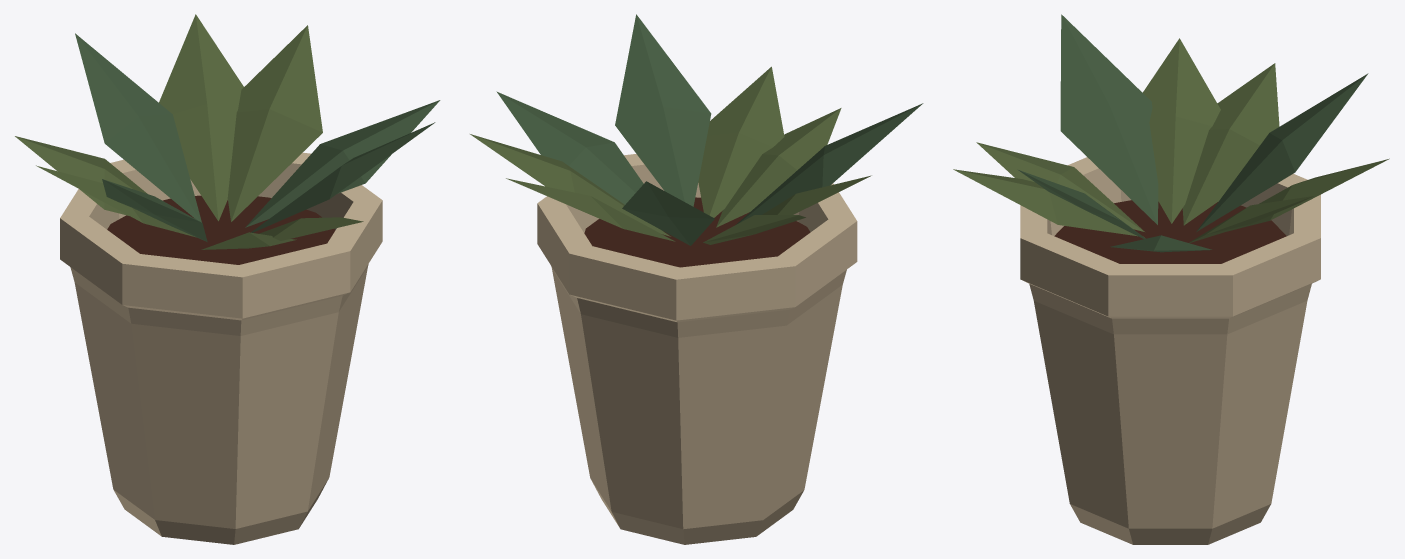
Rendered from seedling_pot.glb.
3 renders of one model, left to right at view 1: azimuth 30°, elevation 25°; view 2: azimuth 150°, elevation 25°; view 3: azimuth 270°, elevation 25°, orthographic.
Parts seen in each view (by area): view 1: Pot, Leaf_01, Leaf_02, Leaf_03, Soil, Leaf_00, Leaf_09, Leaf_04, Leaf_06, Leaf_05, Leaf_08, Leaf_07; view 2: Pot, Leaf_09, Leaf_08, Soil, Leaf_00, Leaf_07, Leaf_06, Leaf_01, Leaf_03, Leaf_02, Leaf_04, Leaf_05; view 3: Pot, Leaf_06, Leaf_05, Soil, Leaf_04, Leaf_03, Leaf_08, Leaf_07, Leaf_02, Leaf_09, Leaf_01, Leaf_00.
Part boxes in pixels (<box>): Pot: <box>60,152,382,544</box>; Leaf_01: <box>227,25,322,221</box>; Leaf_02: <box>159,14,243,221</box>; Leaf_03: <box>75,33,201,222</box>; Soil: <box>107,195,335,264</box>; Leaf_00: <box>245,100,440,227</box>; Leaf_09: <box>251,122,435,232</box>; Leaf_04: <box>15,136,147,215</box>; Leaf_06: <box>102,179,207,241</box>; Leaf_05: <box>36,165,195,237</box>; Leaf_08: <box>259,217,363,240</box>; Leaf_07: <box>201,232,296,249</box>; Pot: <box>537,154,857,544</box>; Leaf_09: <box>615,14,711,206</box>; Leaf_08: <box>698,66,784,217</box>; Soil: <box>584,197,810,267</box>; Leaf_00: <box>496,91,643,204</box>; Leaf_07: <box>716,108,841,227</box>; Leaf_06: <box>736,103,923,224</box>; Leaf_01: <box>470,134,670,236</box>; Leaf_03: <box>622,181,714,245</box>; Leaf_02: <box>506,178,675,241</box>; Leaf_04: <box>703,215,805,244</box>; Leaf_05: <box>762,175,871,214</box>; Pot: <box>1020,157,1320,544</box>; Leaf_06: <box>1060,14,1158,224</box>; Leaf_05: <box>1142,38,1220,223</box>; Soil: <box>1054,200,1286,263</box>; Leaf_04: <box>1182,63,1279,225</box>; Leaf_03: <box>1196,73,1368,231</box>; Leaf_08: <box>953,169,1144,237</box>; Leaf_07: <box>976,142,1144,231</box>; Leaf_02: <box>1227,158,1389,231</box>; Leaf_09: <box>1018,170,1145,238</box>; Leaf_01: <box>1189,196,1313,243</box>; Leaf_00: <box>1110,235,1211,252</box>.
Size of the model in its own units: 0.1902 by 0.1897 by 0.1835.
